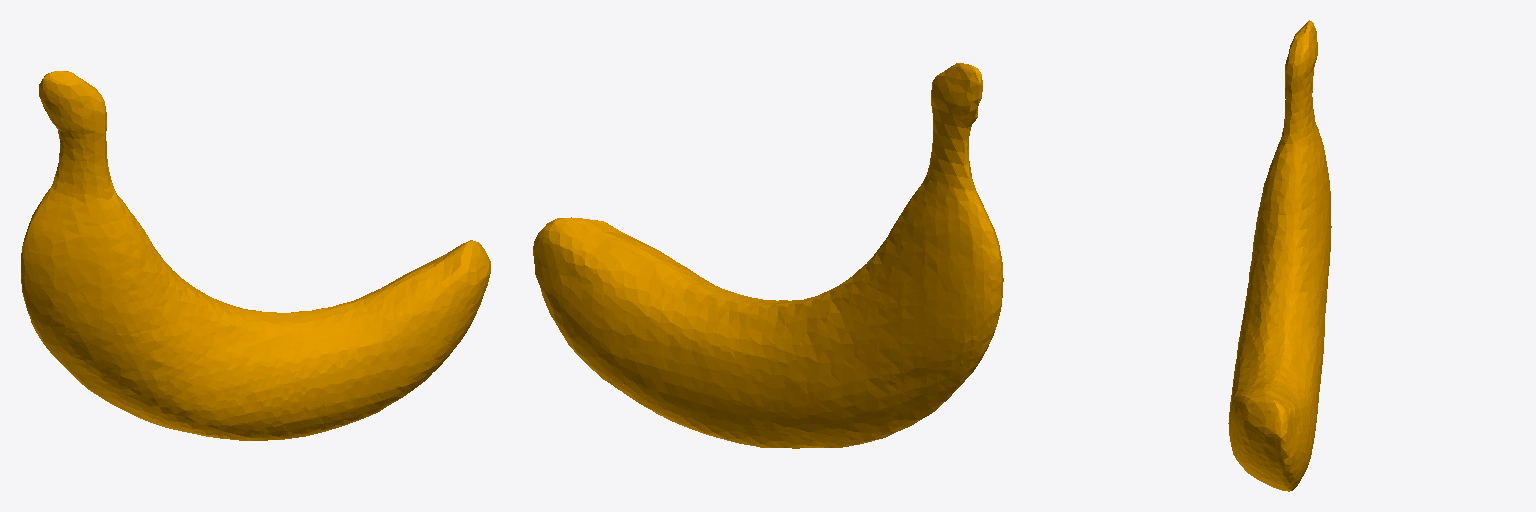
URDF robot description (model_1778240563):
<?xml version="1.0" ?>
<robot name="model_1778240563">
  <link name="base_link">
    <inertial>
      <origin xyz="0.008041628941161656 -0.10924221824191917 1.295623748815118" rpy="0 0 0"/>
      <mass value="1.0436643880071097"/>
      <inertia ixx="0.23910832502263307" ixy="0.22008235934769543" ixz="-0.05101788845506686" iyy="0.6370335117233658" iyz="0.02287316687089451" izz="0.8295225055029163"/>
    </inertial>
    <visual>
      <origin xyz="0 0 1.297511637210846" rpy="0 0 0"/>
      <geometry>
        <mesh filename="visual.obj" scale="3.0 3.0 3.0"/>
      </geometry>
    </visual>
    <collision>
      <origin xyz="0 0 1.297511637210846" rpy="0 0 0"/>
      <geometry>
        <mesh filename="collision.obj" scale="3.0 3.0 3.0"/>
      </geometry>
    </collision>
  </link>
</robot>

--- Render facts (derived) ---
3 views of the same robot in one strip: view 1: azimuth 30°, elevation 25°; view 2: azimuth 150°, elevation 25°; view 3: azimuth 270°, elevation 25° (orthographic).
Model model_1778240563 with 1 links and 0 joints (none), rooted at base_link, posed all joints at 0.
Visible links, largest first — view 1: base_link; view 2: base_link; view 3: base_link.
Boxes of the visible links, x1,y1,x2,y2 form: base_link: (21,71,490,440); base_link: (533,63,1003,448); base_link: (1228,20,1331,491).
Size in the robot's own frame: 3 by 0.6973 by 2.6 metres.
Meshes: 1 distinct files referenced, 1 mesh visuals loaded (1 OBJ).
